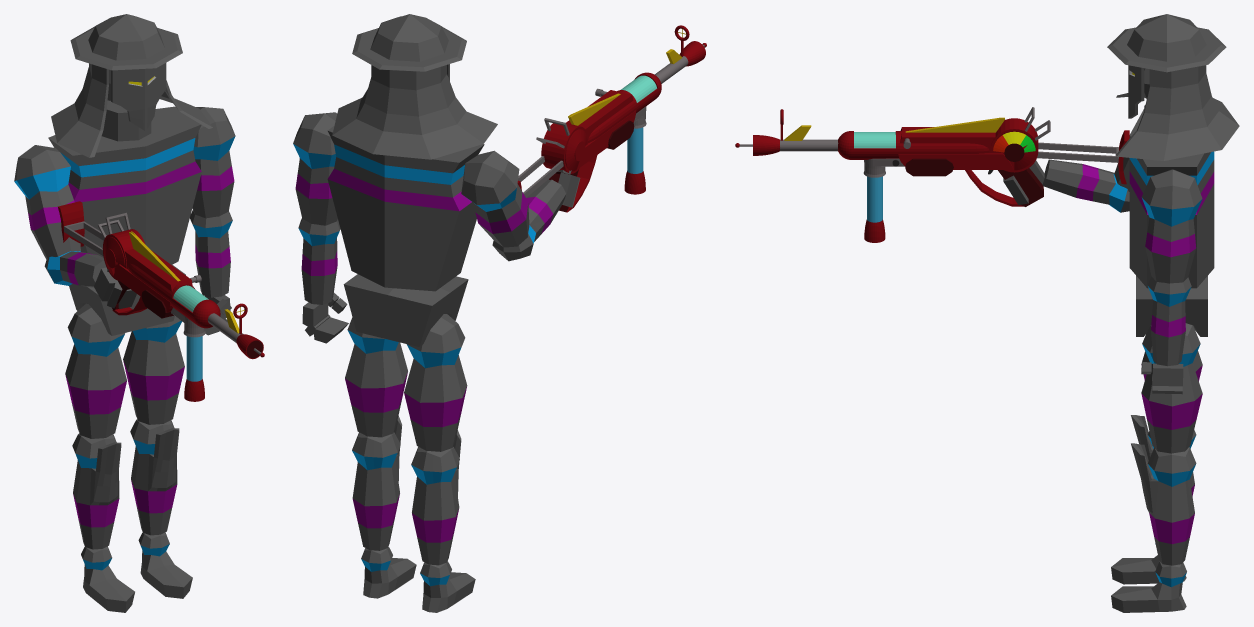
File: Robo_Knight_core.fbx
The picture shows the model from 3 angles, left to right: view 1: azimuth 30°, elevation 25°; view 2: azimuth 150°, elevation 25°; view 3: azimuth 270°, elevation 25°; orthographic projection. The views are drawn at different scales.
Visible parts, largest first — view 1: torso, MPR_40, thigh_R, thigh_L, shoulder_R, polySurface100, calf_R, calf_L, polySurface103, shoulder_L, elbow_L, polySurface102 (+7 smaller); view 2: torso, polySurface103, MPR_40, thigh_R, hips, thigh_L, calf_R, calf_L, polySurface100, shoulder_R, shoulder_L, elbow_L (+4 smaller); view 3: MPR_40, polySurface103, torso, shoulder_L, calf_L, polySurface100, thigh_L, elbow_L, elbow_R, foot_L, hips, foot_R (+2 smaller).
Part boxes in pixels (bbox=[...]): torso: bbox=[48, 106, 201, 264]; MPR_40: bbox=[58, 201, 264, 401]; thigh_R: bbox=[65, 303, 126, 438]; thigh_L: bbox=[123, 316, 184, 424]; shoulder_R: bbox=[14, 145, 80, 259]; polySurface100: bbox=[70, 14, 182, 70]; calf_R: bbox=[72, 433, 121, 549]; calf_L: bbox=[130, 419, 179, 535]; polySurface103: bbox=[51, 63, 212, 157]; shoulder_L: bbox=[192, 107, 235, 218]; elbow_L: bbox=[190, 210, 232, 297]; polySurface102: bbox=[111, 63, 166, 130]; torso: bbox=[327, 125, 484, 291]; polySurface103: bbox=[332, 65, 497, 159]; MPR_40: bbox=[517, 25, 706, 212]; thigh_R: bbox=[404, 314, 467, 451]; hips: bbox=[343, 274, 468, 346]; thigh_L: bbox=[345, 317, 407, 437]; calf_R: bbox=[411, 430, 461, 565]; calf_L: bbox=[352, 416, 402, 550]; polySurface100: bbox=[352, 14, 466, 71]; shoulder_R: bbox=[461, 150, 529, 247]; shoulder_L: bbox=[293, 112, 337, 225]; elbow_L: bbox=[298, 218, 340, 304]; MPR_40: bbox=[735, 107, 1129, 242]; polySurface103: bbox=[1116, 65, 1239, 160]; torso: bbox=[1129, 109, 1214, 288]; shoulder_L: bbox=[1141, 169, 1202, 283]; calf_L: bbox=[1131, 443, 1196, 565]; polySurface100: bbox=[1107, 14, 1226, 72]; thigh_L: bbox=[1141, 323, 1202, 453]; elbow_L: bbox=[1147, 276, 1191, 366]; elbow_R: bbox=[1042, 159, 1129, 212]; foot_L: bbox=[1111, 561, 1186, 612]; hips: bbox=[1136, 276, 1207, 336]; foot_R: bbox=[1111, 543, 1186, 584].
Bounding box in the file's own units: 1120 × 2848 × 2247.
